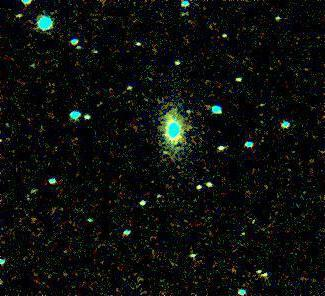star: (145, 140, 175, 170)
